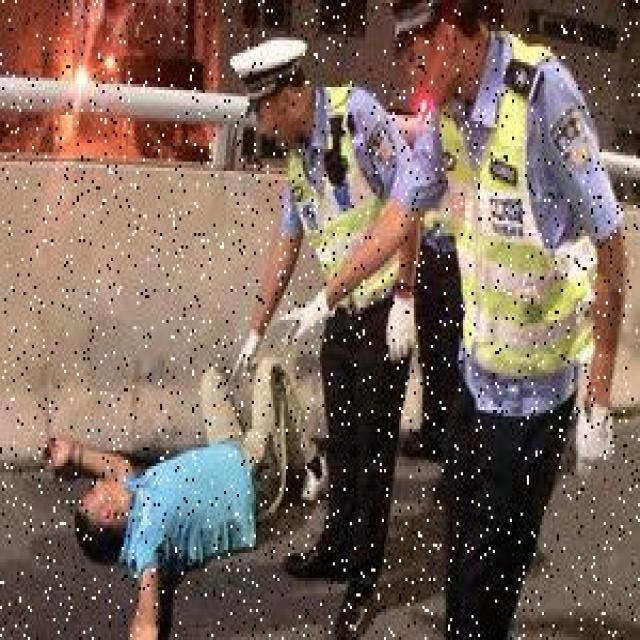fall: (45, 357, 316, 637)
